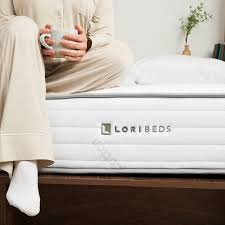bed-matress: (1, 54, 225, 176)
